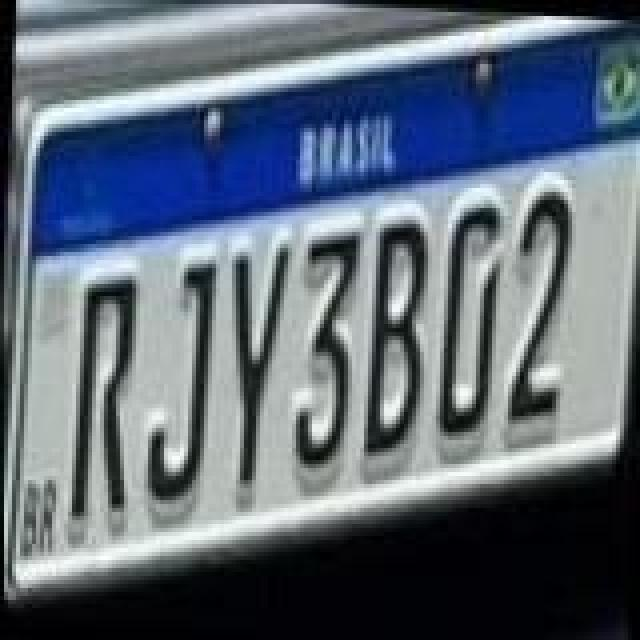2: (502, 186, 574, 430)
3: (290, 224, 362, 468)
B: (358, 218, 430, 458)
D: (432, 204, 500, 440)
J: (140, 258, 216, 506)
R: (64, 272, 140, 528)
Y: (218, 238, 290, 486)
